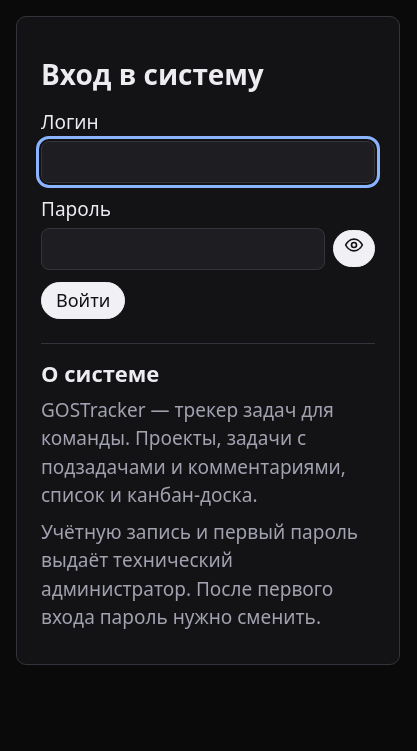
it: LoginPage (T23) › error_403_forbidden_is_shown_via_dictionary_without_raw_json
Type "ivanov" into the field labelled "Логин" at (208, 162), box [41,140,375,183]
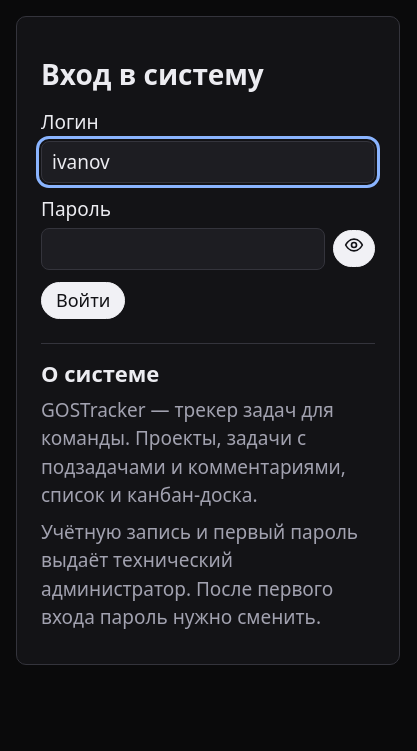
Type "Correct-Horse-Battery-9" into the password field labelled "Пароль" at (183, 249), box [41,228,325,270]
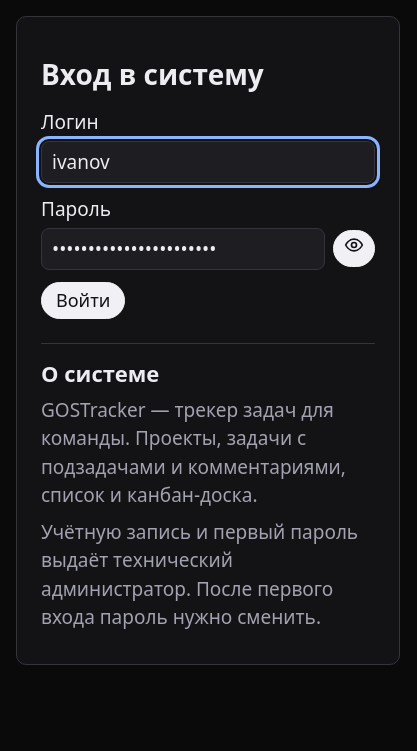
Click the submit button at (83, 300), box [41,282,125,319]
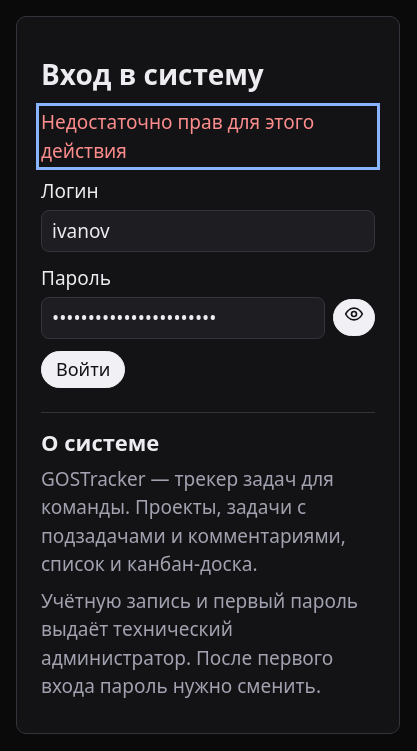
Now the message reads "Недостаточно прав для этого действия", box [41,109,314,164]
